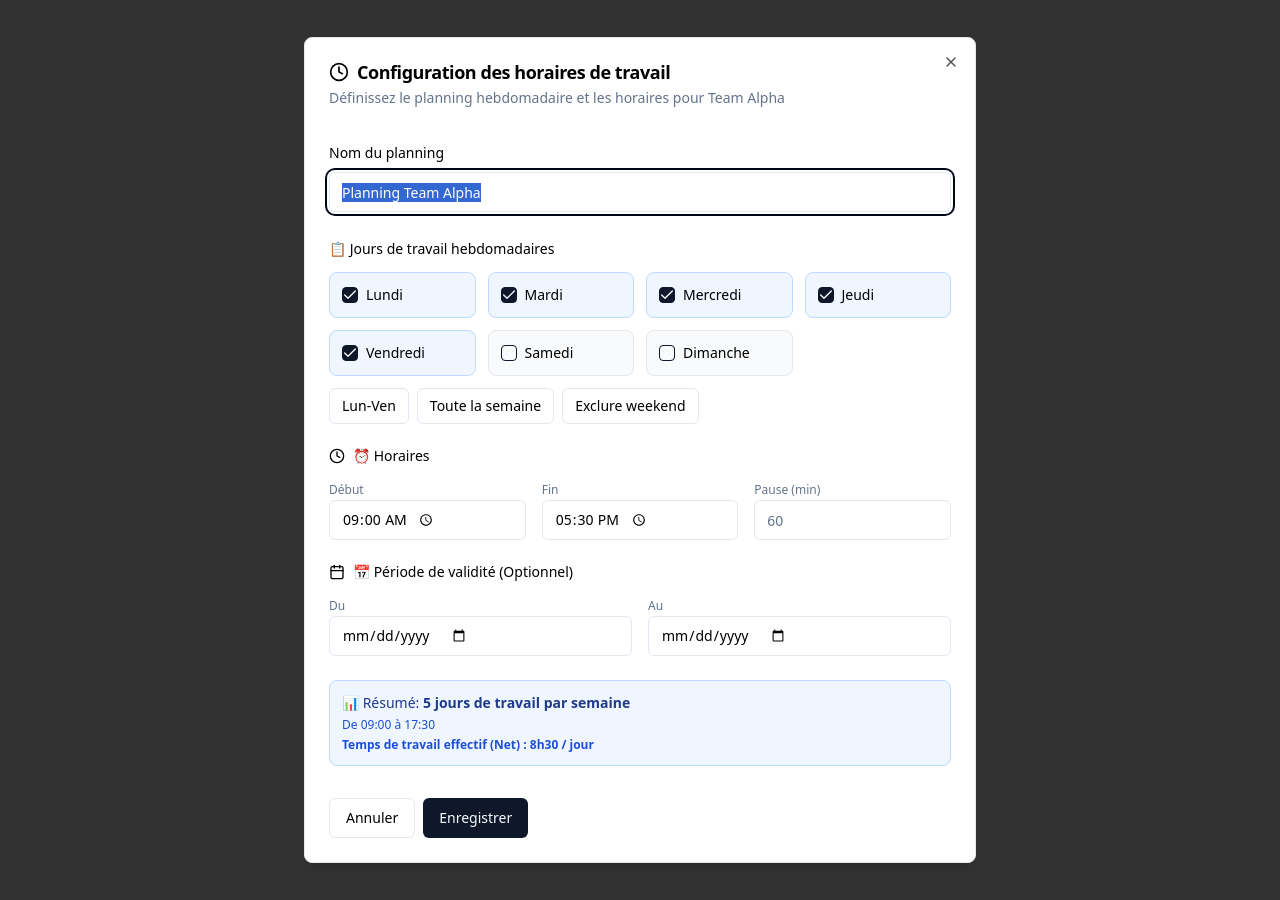
WorkScheduleConfigurator › validates empty schedule name
Clear the field labelled "Nom du planning" at (640, 192), box [329,172,951,212]
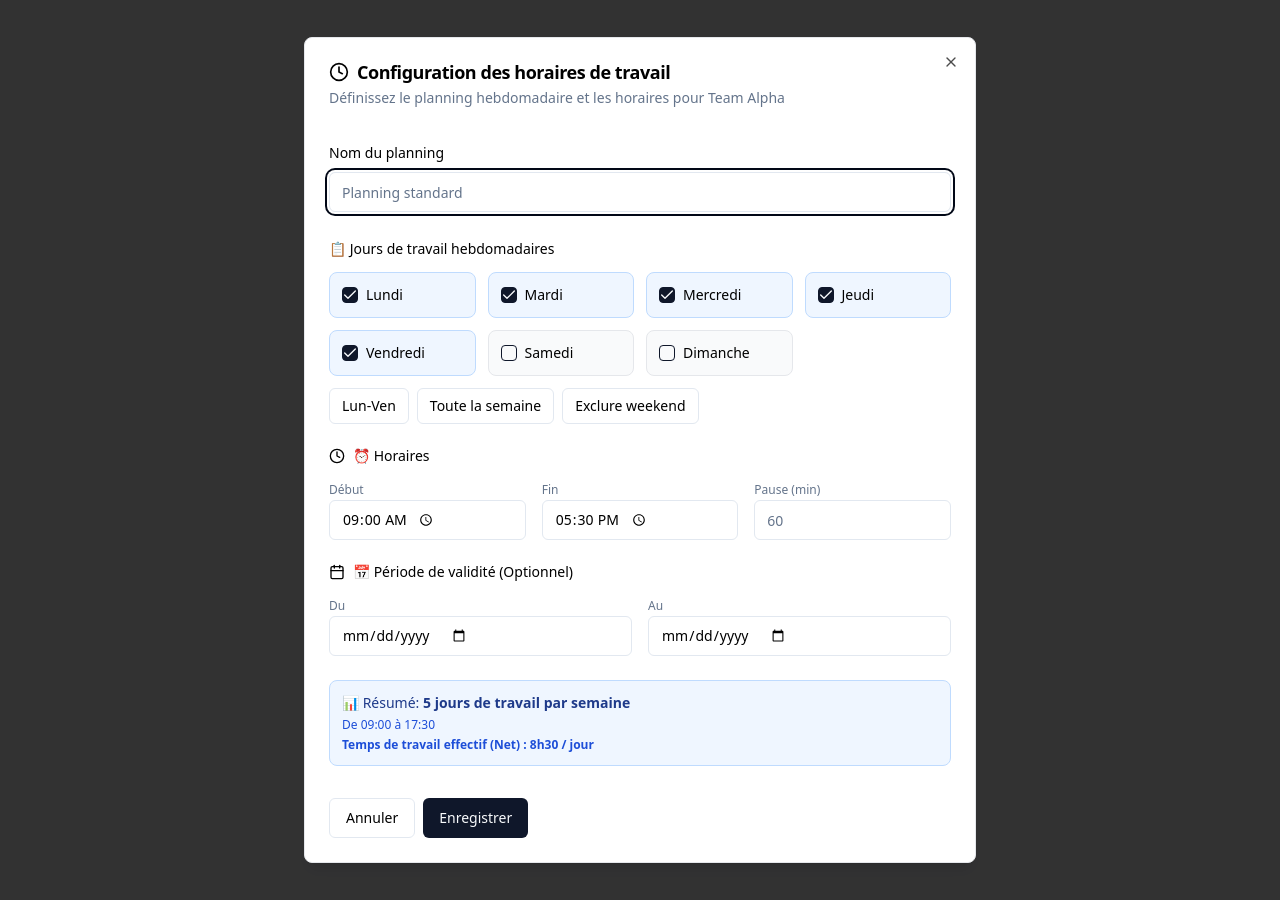
Click the button "Enregistrer".
click(476, 818)  # box [423,798,528,838]
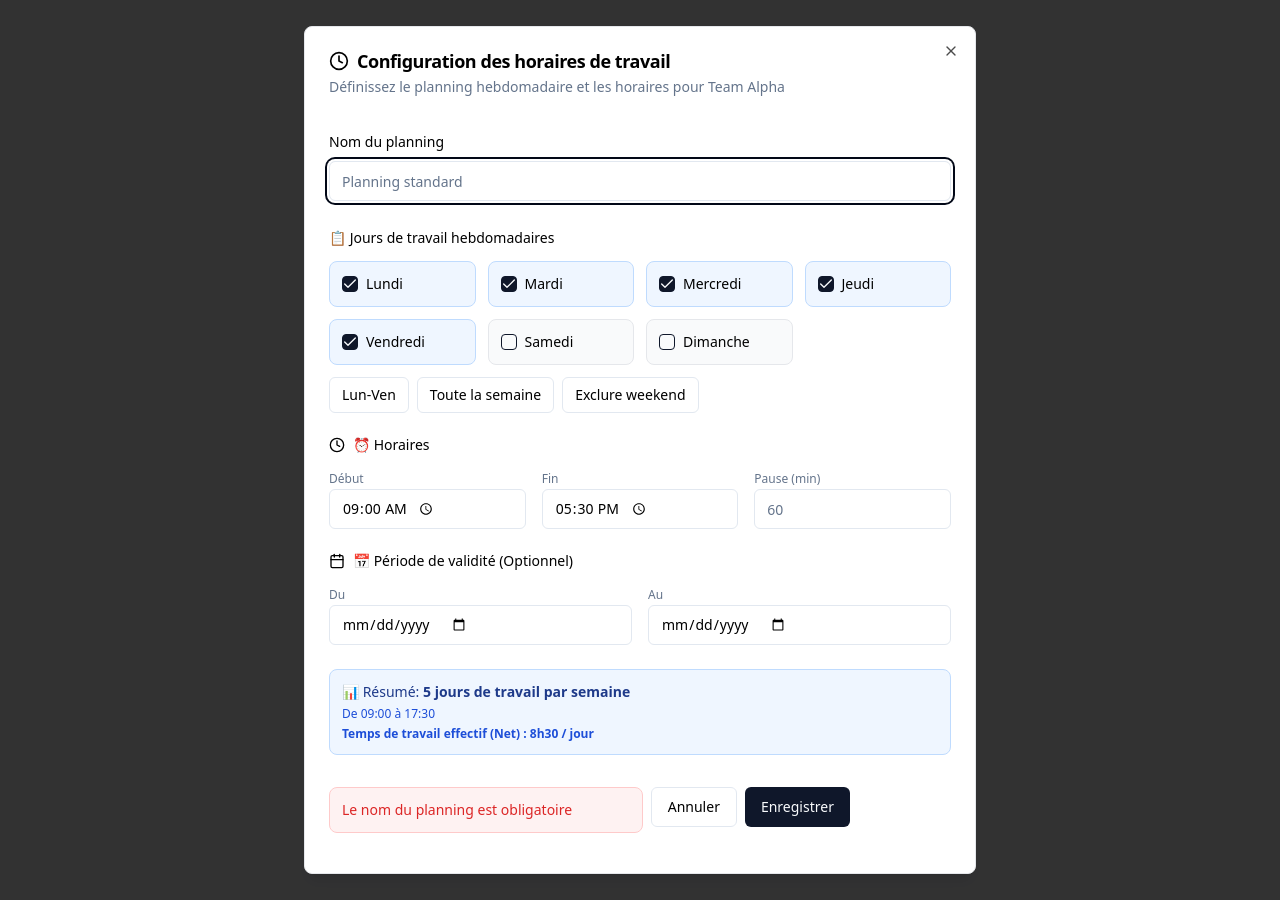
Check: the text "Le nom du planning est obligatoire" is shown, box [329,787,643,833]
